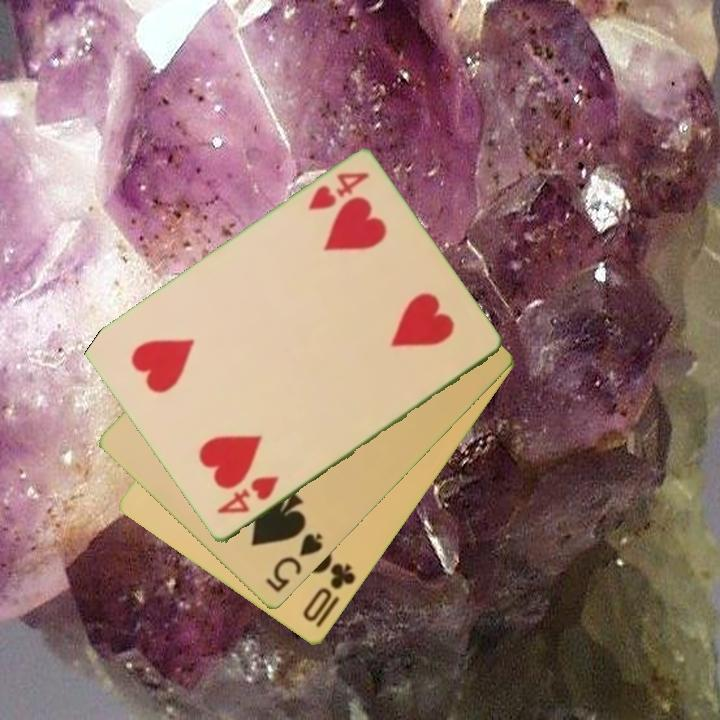10c: (299, 559, 359, 626)
4h: (213, 473, 283, 518), (304, 169, 372, 214)
5s: (262, 530, 326, 596)
